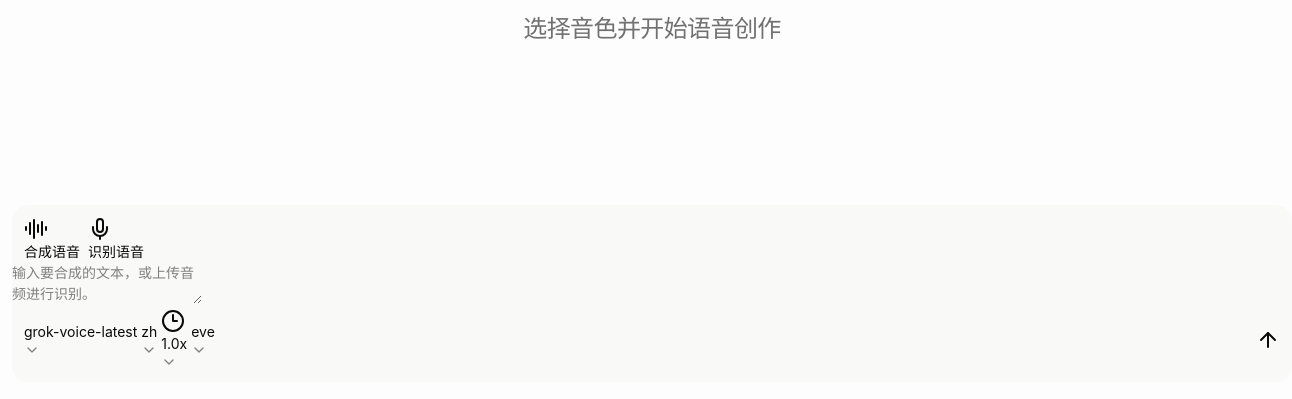
语音面板失败路径 › 合成失败展示接口错误文案
Type "朗读这段话" into the text box with test id "voice-prompt" at (107, 283), box [12,262,202,304]
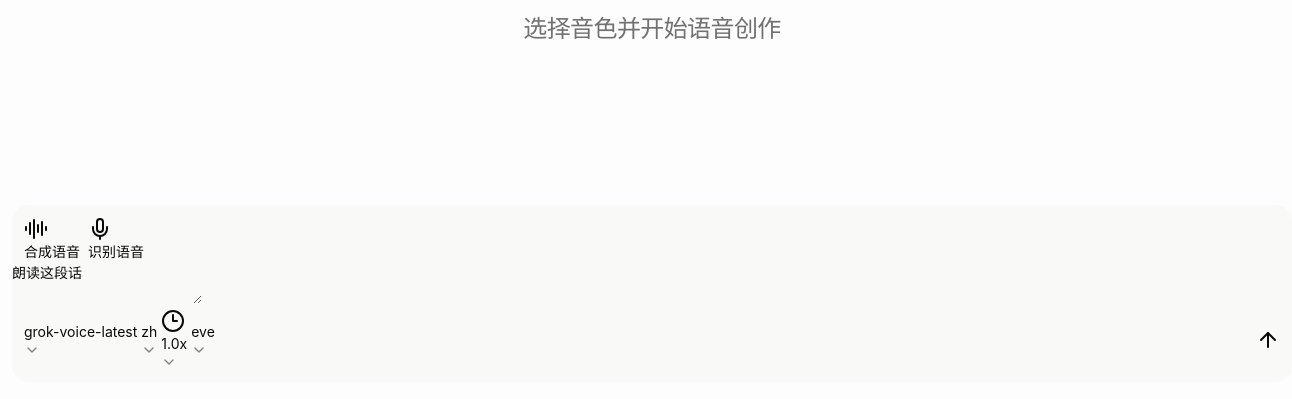
Submit the form, box [12,205,1291,382]
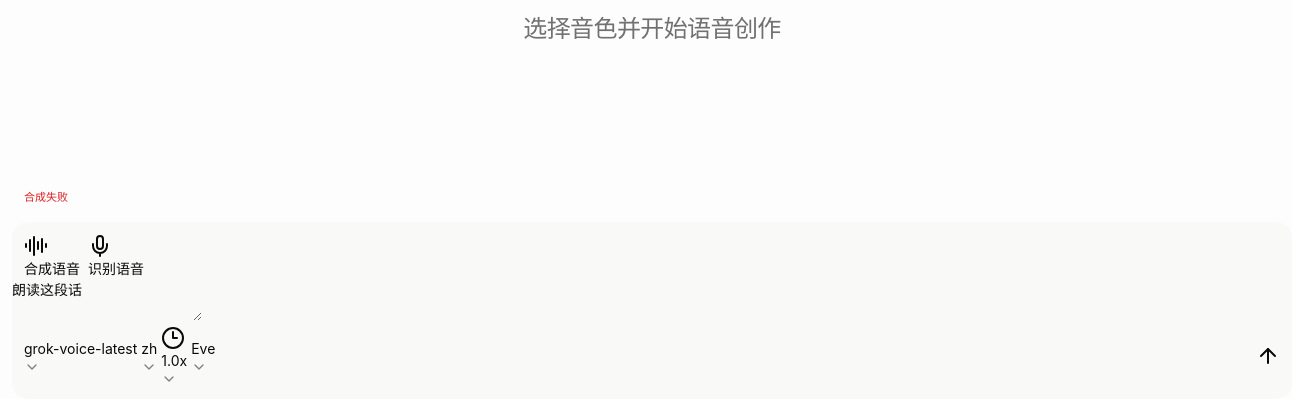
Expected: the text with test id "voice-tts-error" reads "合成失败", [24,190,68,204]
